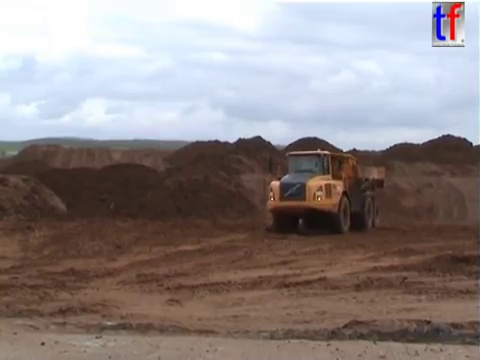truck: (263, 147, 387, 235)
